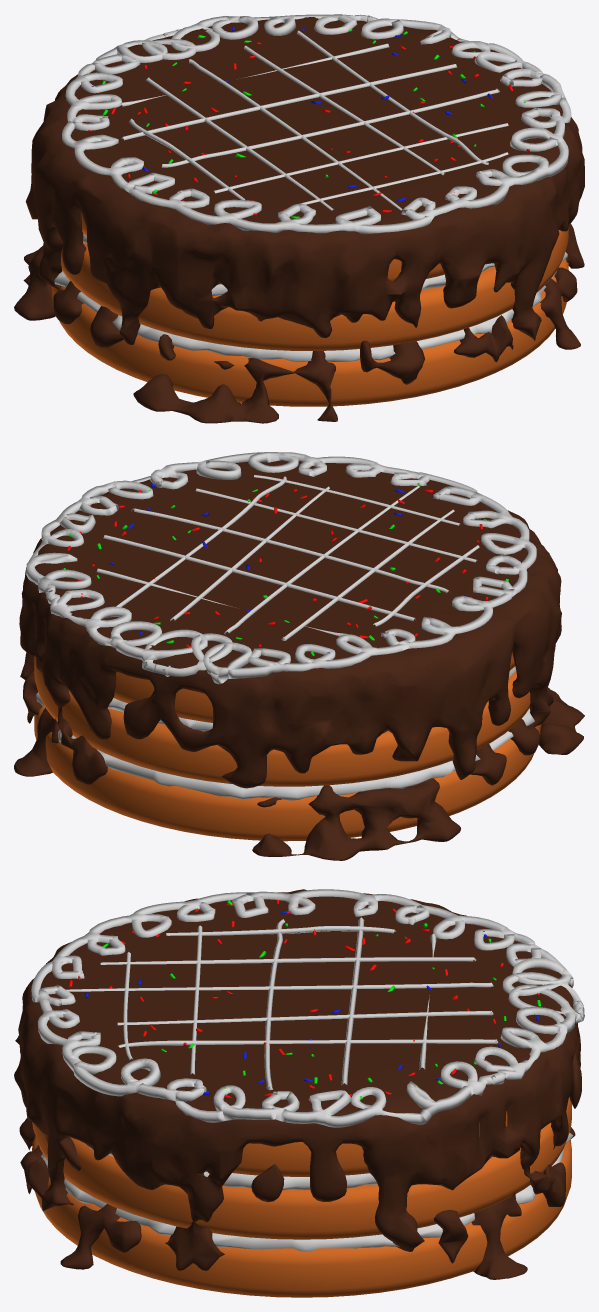
File: cake.fbx
3 views of the same model, one above another, from view 1: azimuth 30°, elevation 25°; view 2: azimuth 150°, elevation 25°; view 3: azimuth 270°, elevation 25° (orthographic). The views are drawn at different scales.
Parts seen in each view (by area): view 1: Cube, BezierCurve, Cylinder, Cylinder.002, BezierCurve.001, Cube.001, Cylinder.042; view 2: Cube, BezierCurve, Cylinder, Cylinder.002, BezierCurve.001, Cube.001, Cylinder.003, Cylinder.042, Cube.002; view 3: Cube, BezierCurve, Cylinder, Cylinder.002, BezierCurve.001, Cube.001, Cylinder.003, Cylinder.042, Cube.002.
Part boxes in pixels (box(x1,y1,x2,y2)): Cube: box(14, 17, 584, 423); BezierCurve: box(62, 14, 571, 234); Cylinder: box(51, 259, 568, 406); Cylinder.002: box(61, 227, 568, 350); BezierCurve.001: box(121, 30, 508, 210); Cube.001: box(54, 252, 567, 362); Cylinder.042: box(88, 24, 538, 218); Cube: box(14, 460, 584, 860); BezierCurve: box(26, 452, 536, 684); Cylinder: box(34, 706, 541, 841); Cylinder.002: box(34, 656, 530, 786); BezierCurve.001: box(96, 475, 479, 640); Cube.001: box(36, 692, 534, 800); Cylinder.003: box(113, 652, 515, 722); Cylinder.042: box(63, 471, 510, 655); Cube.002: box(108, 666, 516, 731); Cube: box(14, 889, 581, 1279); BezierCurve: box(31, 889, 584, 1127); Cylinder: box(31, 1136, 571, 1297); Cylinder.002: box(32, 1097, 571, 1239); BezierCurve.001: box(66, 917, 498, 1090); Cube.001: box(41, 1132, 573, 1251); Cylinder.003: box(232, 1111, 507, 1176); Cylinder.042: box(69, 900, 540, 1100); Cube.002: box(86, 1144, 377, 1190).
Size of the model in its own units: 415 by 165 by 421.
